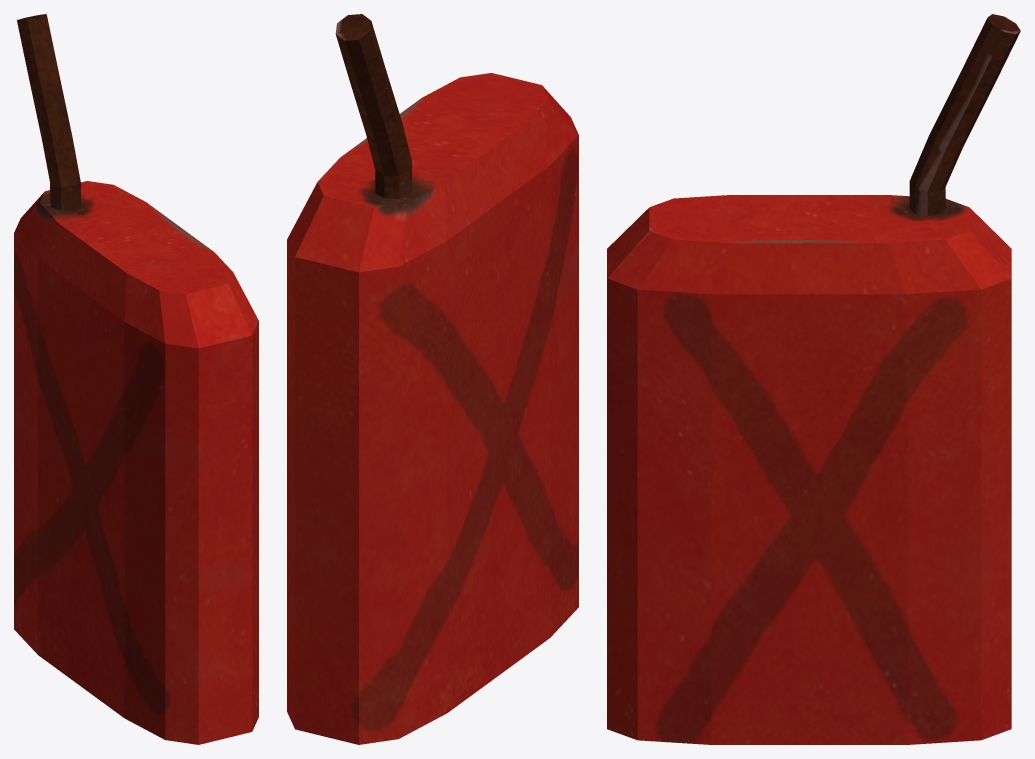
The model's file is Vida_mediana.glb.
3 renders of one model, left to right at view 1: azimuth 30°, elevation 25°; view 2: azimuth 150°, elevation 25°; view 3: azimuth 270°, elevation 25°, orthographic. The views are drawn at different scales.
Visible parts, largest first — view 1: Cube; view 2: Cube; view 3: Cube.
Part boxes in pixels (x1,y1,x2,y2): Cube: (14, 14, 258, 744); Cube: (287, 14, 578, 744); Cube: (607, 14, 1020, 744).
Size of the model in its own units: 0.3094 by 1.62 by 0.8836.
1 material, 1 textured.
